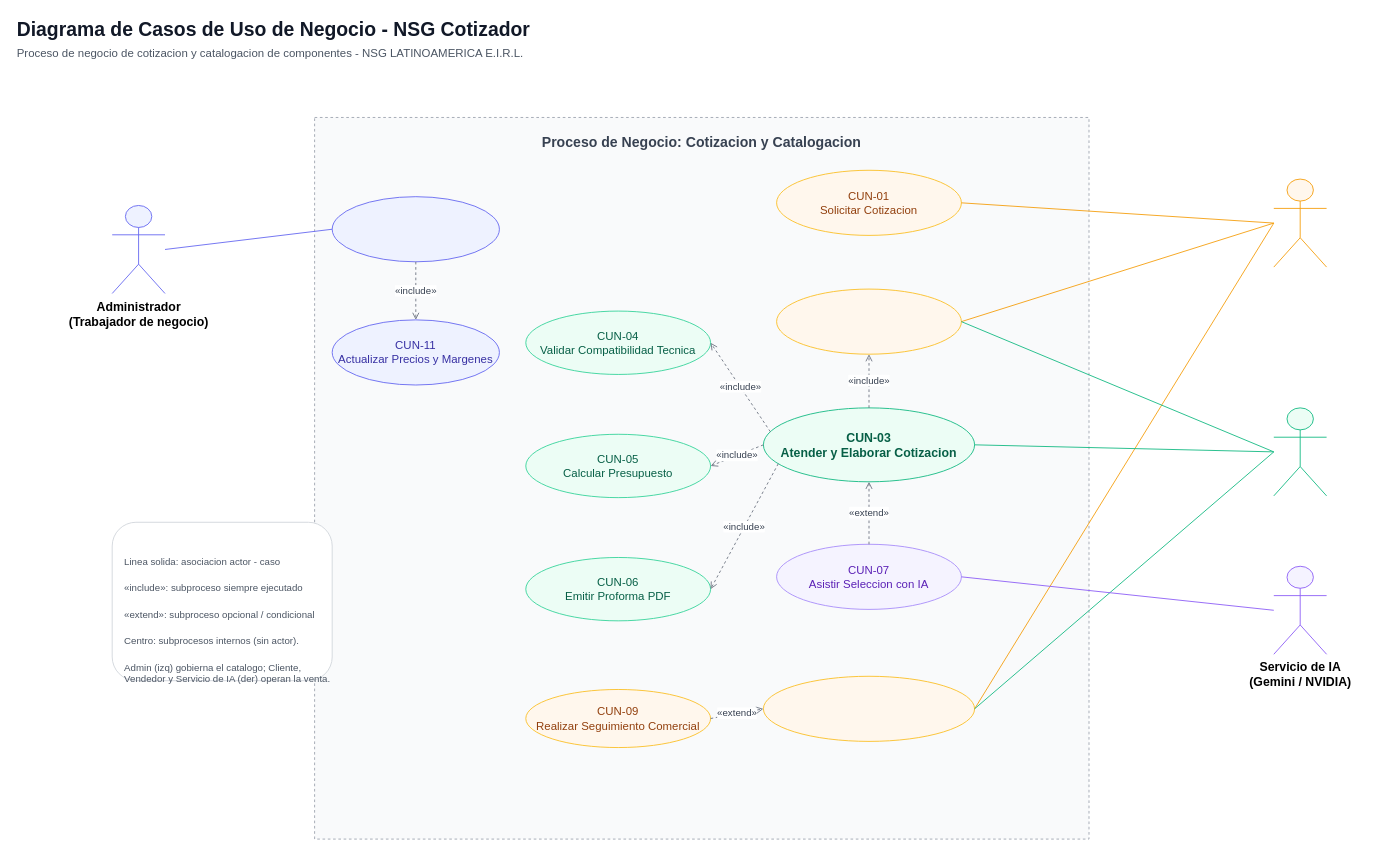
Some shapes in this 1385 by 854 pixel diagram are drawn without their labels. The box of each missing label's shape, as (x1, y1, x2, y2) in pixels:
Cliente (Actor de negocio): (1273, 178, 1327, 267)
CUN-02 Consultar Catalogo de Componentes: (776, 288, 961, 354)
CUN-08 Entregar Proforma al Cliente: (763, 675, 975, 741)
CUN-10 Gestionar Catalogo Tecnico: (331, 196, 499, 262)
Leyenda: (111, 521, 332, 681)
Vendedor (Trabajador de negocio): (1273, 407, 1327, 496)
